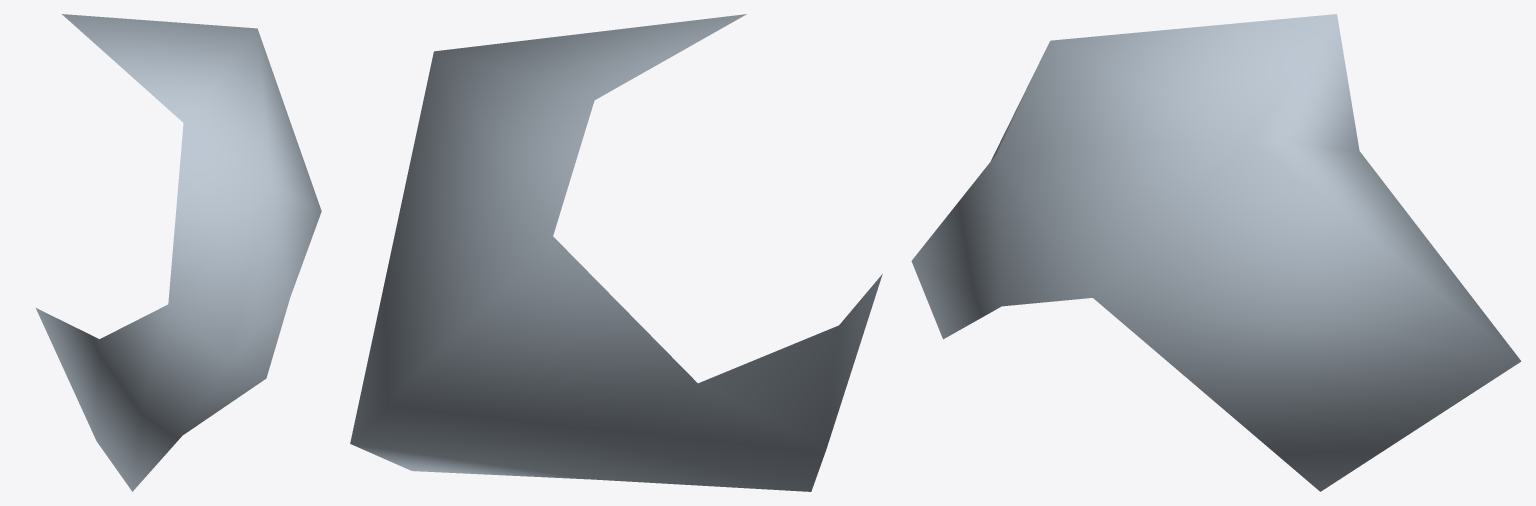
File: articular-capsule-of-sternoclavicular-joint-r.glb
The picture shows the model from 3 angles, left to right: view 1: azimuth 30°, elevation 25°; view 2: azimuth 150°, elevation 25°; view 3: azimuth 270°, elevation 25°; orthographic projection. The views are drawn at different scales.
Visible parts, largest first — view 1: Articular capsule of sternoclavicular joint.r; view 2: Articular capsule of sternoclavicular joint.r; view 3: Articular capsule of sternoclavicular joint.r.
Boxes of the visible parts, left/top/right/bottom form: Articular capsule of sternoclavicular joint.r: left=36, top=14, right=321, bottom=491; Articular capsule of sternoclavicular joint.r: left=350, top=14, right=882, bottom=491; Articular capsule of sternoclavicular joint.r: left=911, top=14, right=1521, bottom=491.
Bounding box in the file's own units: 0.0254 × 0.0343 × 0.042.
